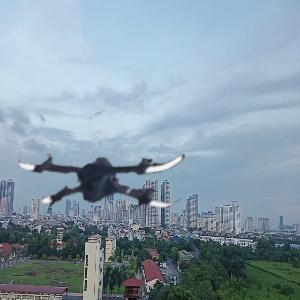drone: (23, 83, 187, 247)
